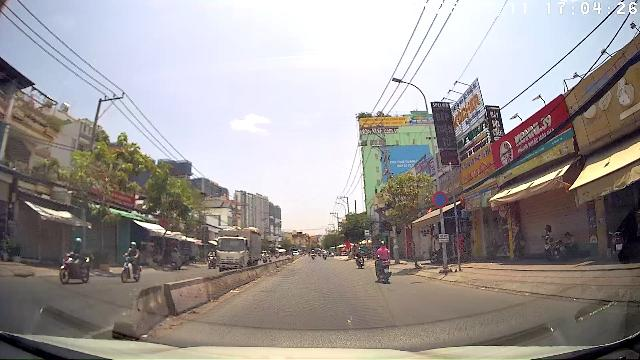131a-cam-do-xe: (432, 191, 448, 209)
